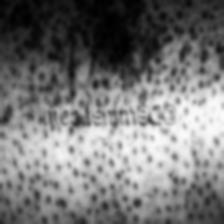Toxin: (0, 122, 224, 224), (4, 18, 224, 102)
